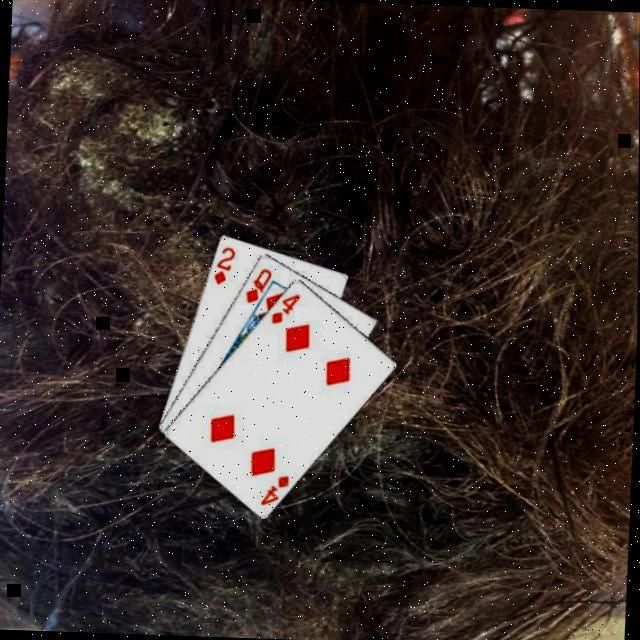2D: (212, 244, 238, 286)
4D: (268, 290, 304, 328), (259, 472, 292, 509)
QD: (243, 264, 276, 306)
